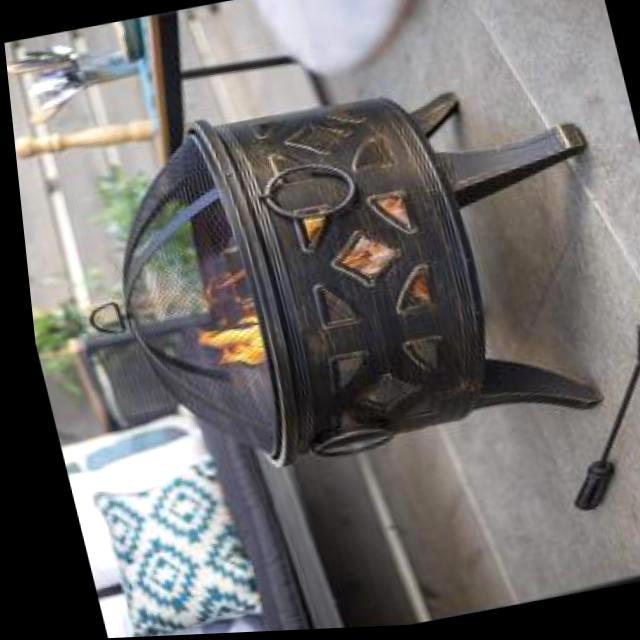fire: (176, 308, 276, 382)
